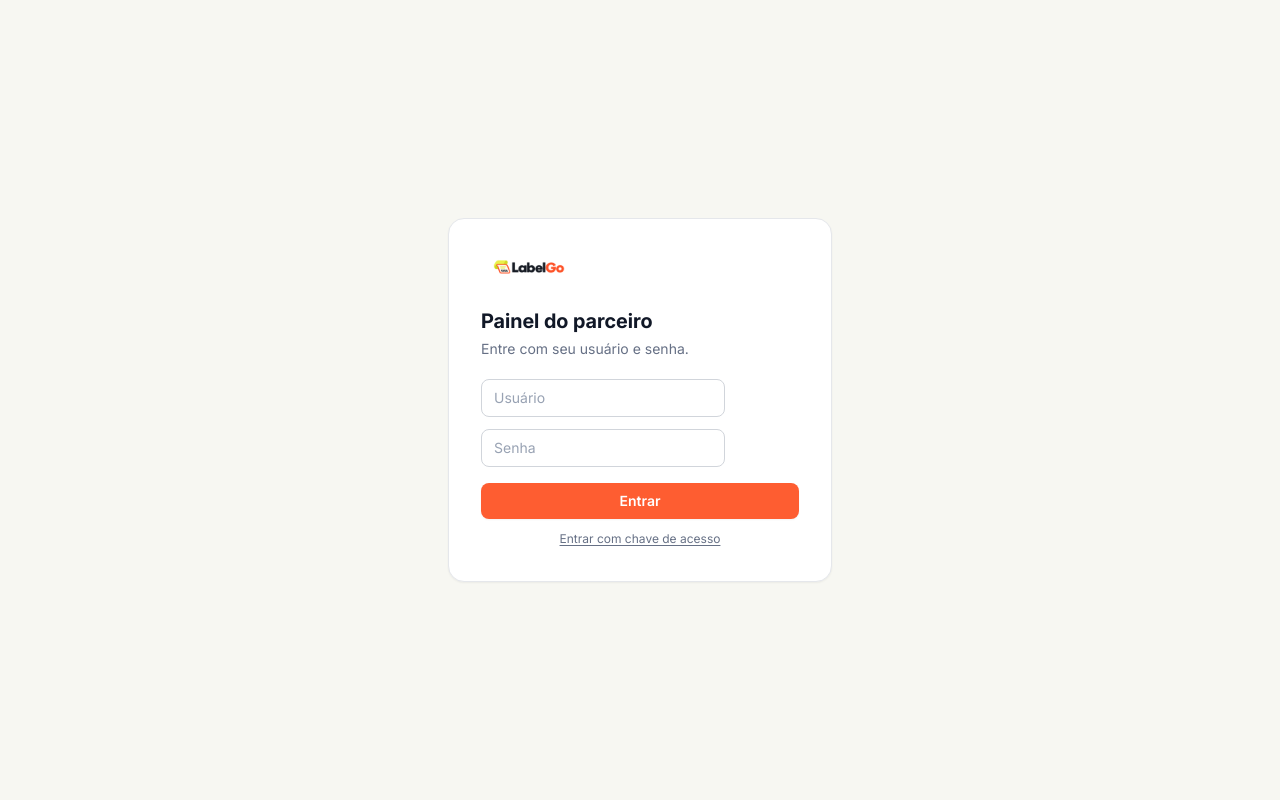
logs in with username and password
This screenshot has width=1280, height=800.
Type "ecommercefree" into the field labelled "Usuário" at (603, 398), box [481, 379, 725, 417]
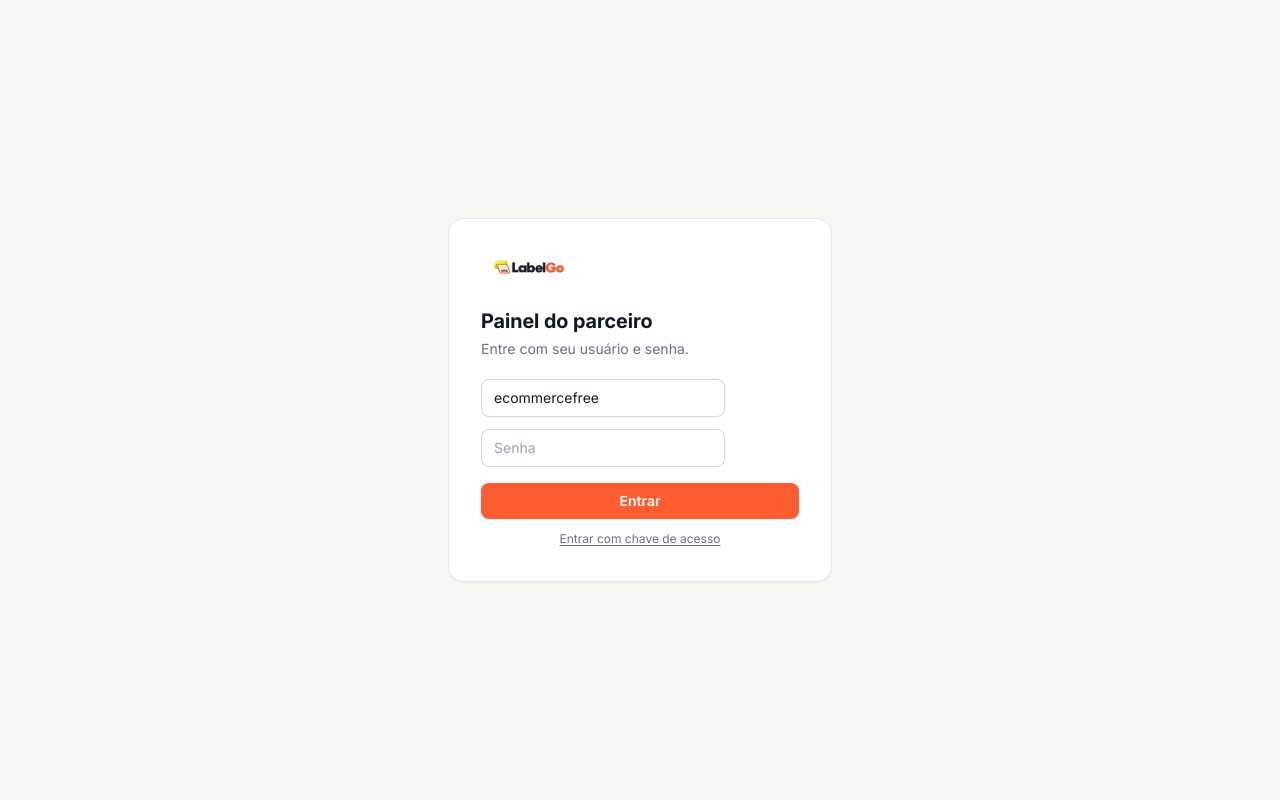
Type "senha-secreta-1" into the password field labelled "Senha" at (603, 448), box [481, 429, 725, 467]
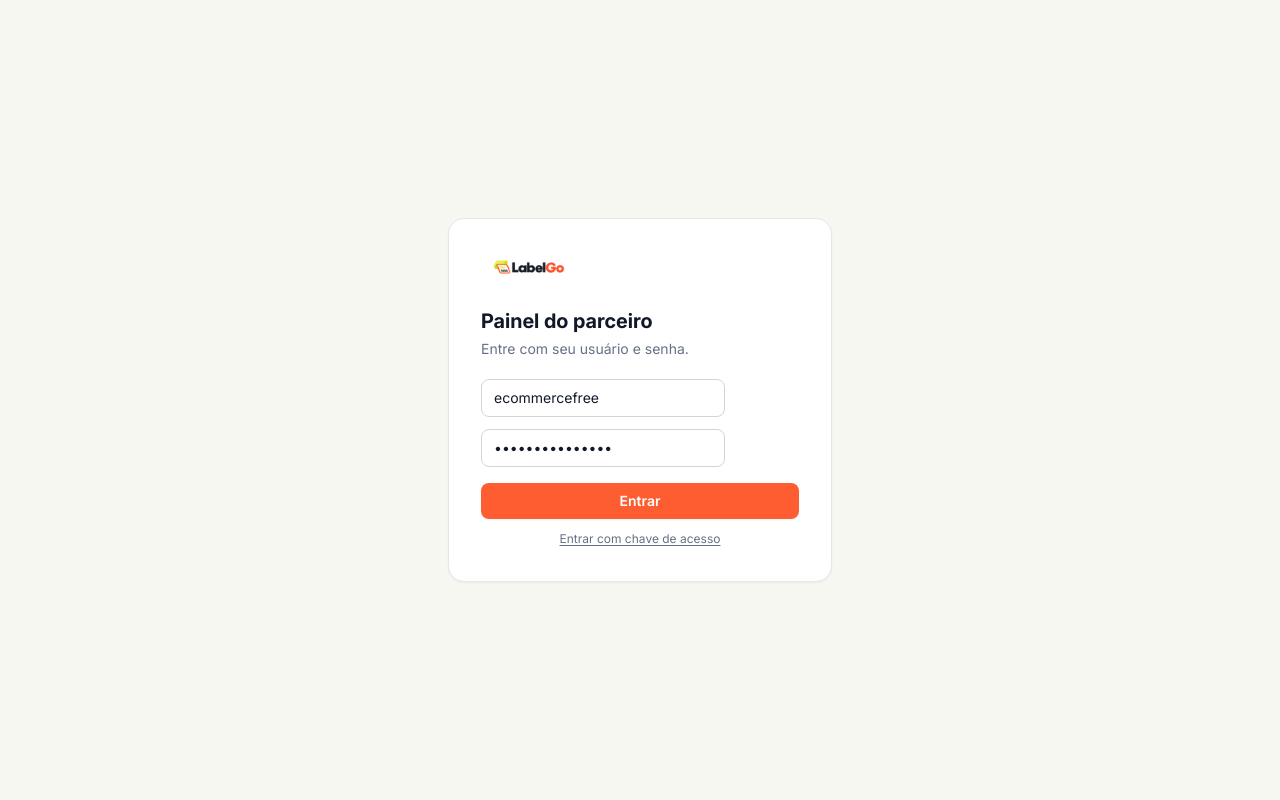
Click the button "Entrar" at (640, 501), box [481, 483, 799, 519]
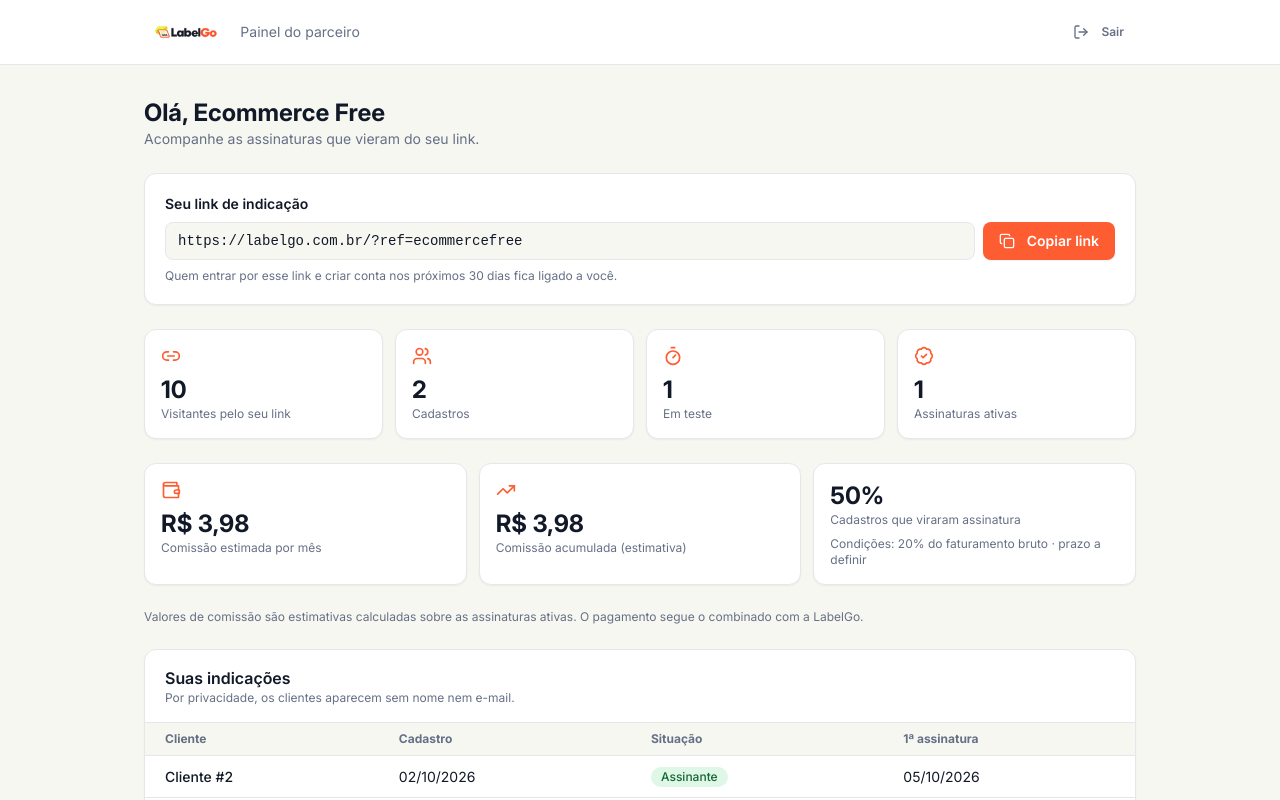
Expected: the heading "Olá, Ecommerce Free" is shown, [144, 98, 385, 127]
